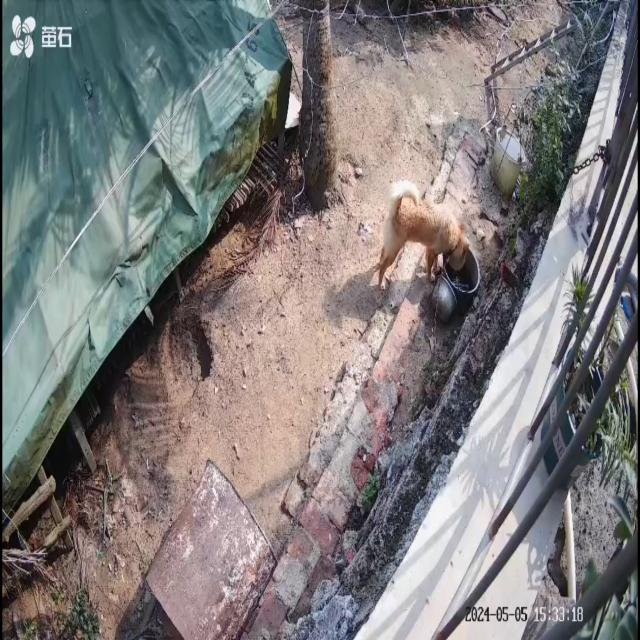dog: (378, 180, 471, 291)
